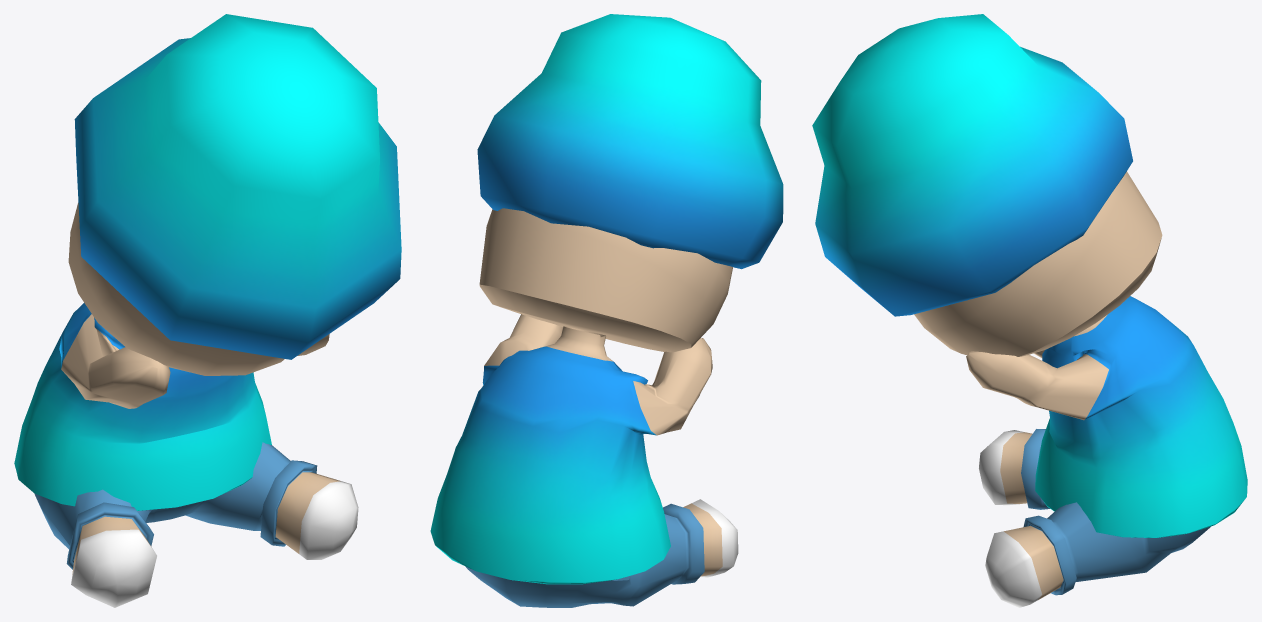
File: child_blue.fbx
3 renders of one model, left to right at view 1: azimuth 30°, elevation 25°; view 2: azimuth 150°, elevation 25°; view 3: azimuth 270°, elevation 25°, orthographic. The views are drawn at different scales.
Parts seen in each view (by area): view 1: polySurface47; view 2: polySurface47; view 3: polySurface47.
Part boxes in pixels (<box>): polySurface47: <box>14,14,401,607</box>; polySurface47: <box>430,14,783,607</box>; polySurface47: <box>812,14,1247,607</box>.
Bounding box in the file's own units: 0.8832 × 1.59 × 1.18.
